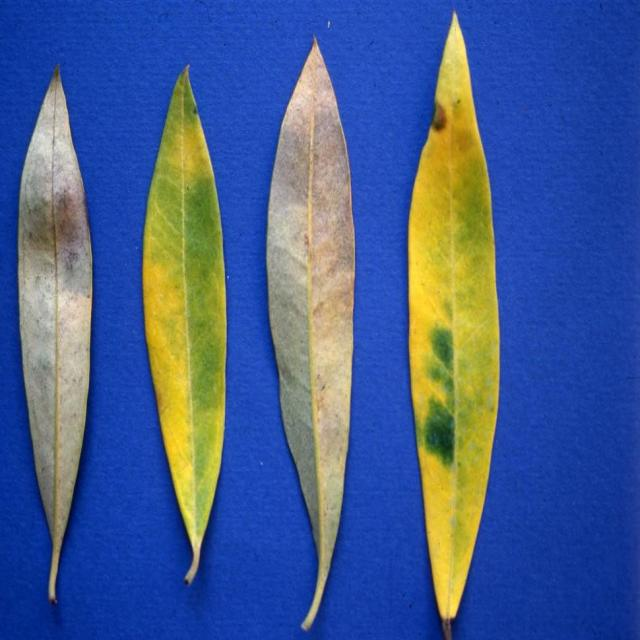Peacock Eye: (408, 14, 499, 639), (266, 41, 354, 629), (143, 66, 226, 584), (18, 65, 92, 589)
